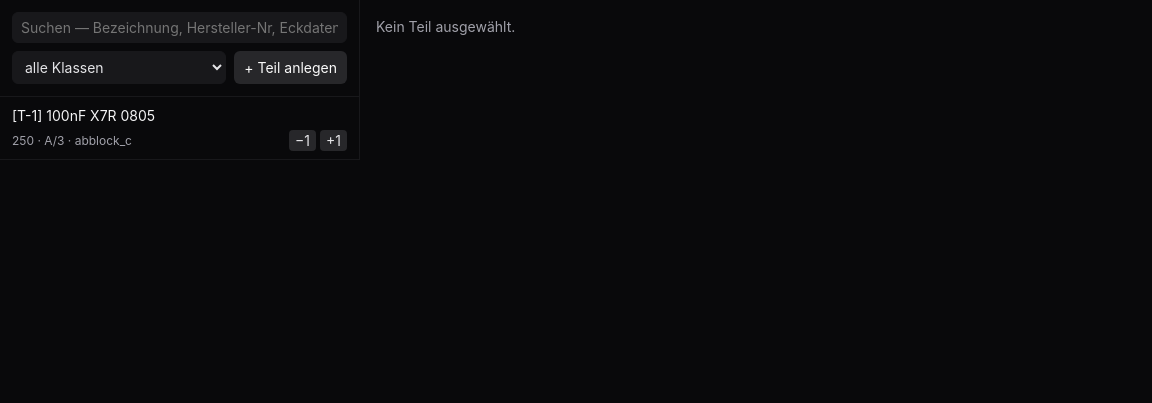
Test: BestandPanel › zeigt Liste und lädt Detail bei Klick
Click the text "[T-1] 100nF X7R 0805" at (84, 116), box [12,107,155,124]
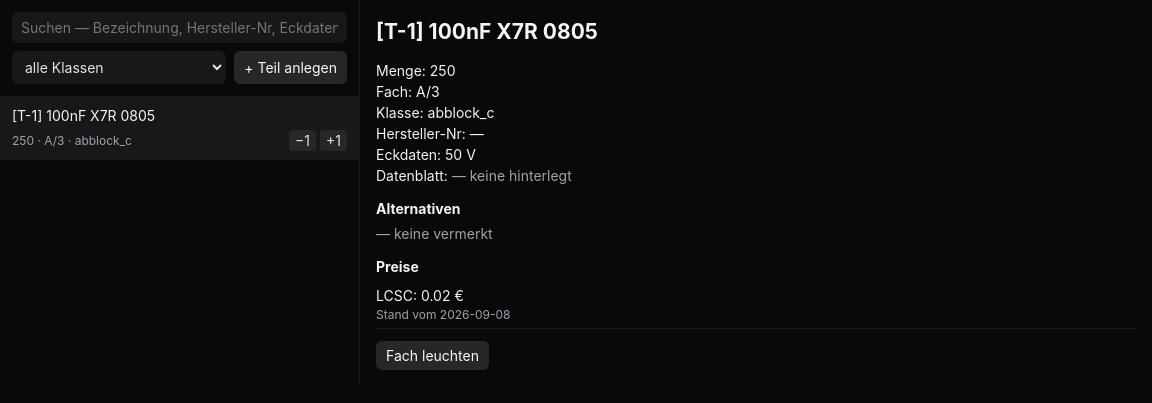
Expected: the text "Stand vom 2026-09-08" is shown, [376,306,510,322]
